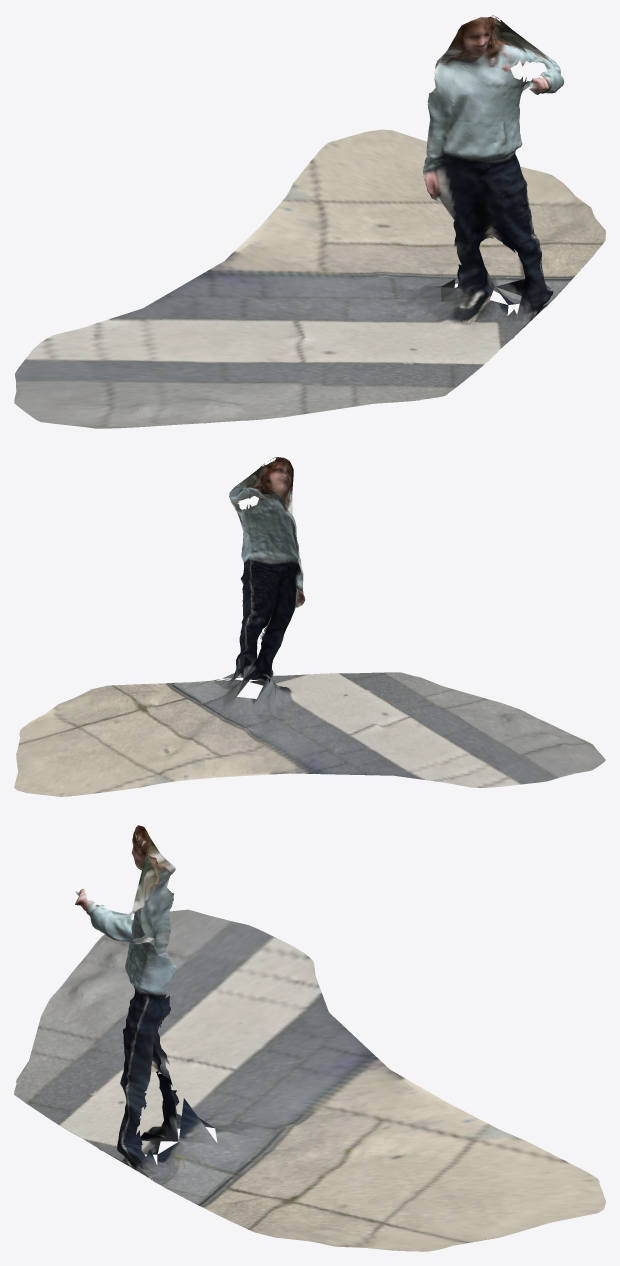
The model's file is scaniverse-2025-05-22-144612.fbx.
3 renders of one model, top to bottom at view 1: azimuth 30°, elevation 25°; view 2: azimuth 150°, elevation 25°; view 3: azimuth 270°, elevation 25°, orthographic. The views are drawn at different scales.
Parts seen in each view (by area): view 1: mesh; view 2: mesh; view 3: mesh.
Boxes of the visible parts, <box> form: mesh: <box>14,15,605,428</box>; mesh: <box>14,457,605,796</box>; mesh: <box>14,825,605,1251</box>.
Size of the model in its own units: 3 by 1.38 by 2.31.
1 material, 1 textured.
